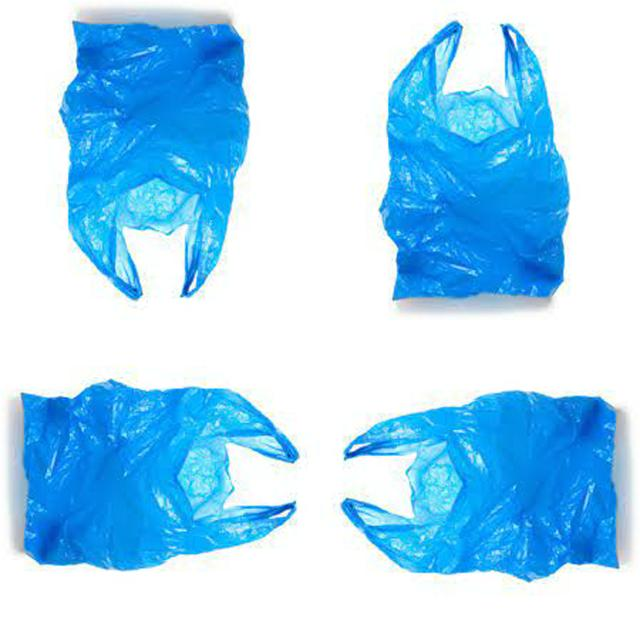Single-layer Plastic: (60, 22, 249, 299), (380, 22, 569, 298), (342, 391, 618, 580), (22, 380, 296, 569)
